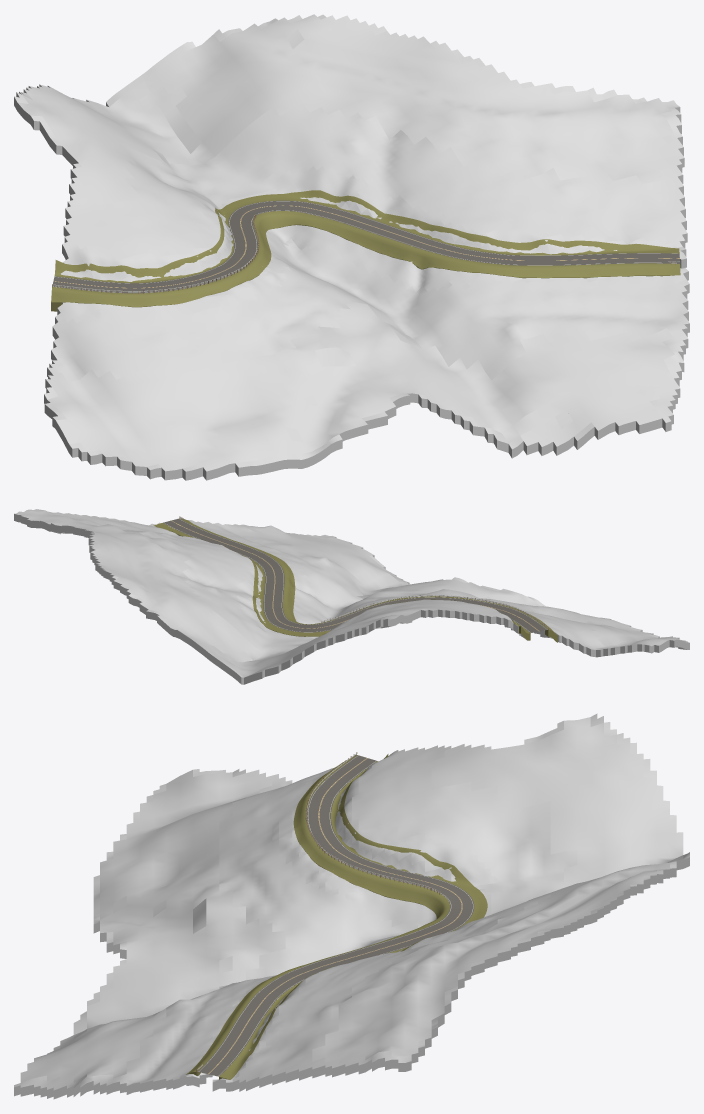
The model's file is conz_144.glb.
3 views of the same model, one above another, from view 1: azimuth 30°, elevation 25°; view 2: azimuth 150°, elevation 25°; view 3: azimuth 270°, elevation 25° (orthographic). The views are drawn at different scales.
Visible parts, largest first — view 1: terrain144, verge144L, road144, verge144R, paint_white144; view 2: terrain144, road144, verge144L, verge144R, paint_white144, beam144_503100, paint_yellow144; view 3: terrain144, road144, verge144L, verge144R, paint_white144, paint_yellow144.
Boxes of the visible parts, x1,y1,x2,y2 form: terrain144: [14, 14, 689, 480]; verge144L: [51, 211, 680, 311]; road144: [52, 200, 679, 293]; verge144R: [54, 190, 679, 283]; paint_white144: [53, 201, 677, 292]; terrain144: [14, 509, 689, 684]; road144: [163, 518, 547, 632]; verge144L: [179, 518, 557, 642]; verge144R: [154, 523, 530, 640]; paint_white144: [165, 519, 547, 632]; beam144_503100: [322, 595, 547, 627]; paint_yellow144: [171, 520, 539, 631]; terrain144: [14, 713, 689, 1099]; road144: [197, 755, 474, 1076]; verge144L: [186, 755, 449, 1075]; verge144R: [219, 754, 487, 1079]; paint_white144: [198, 756, 473, 1075]; paint_yellow144: [208, 758, 462, 1073].
Bounding box in the file's own units: 252 × 74.03 × 204.
